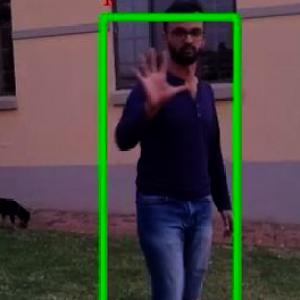follow_hand: (126, 41, 193, 119)
